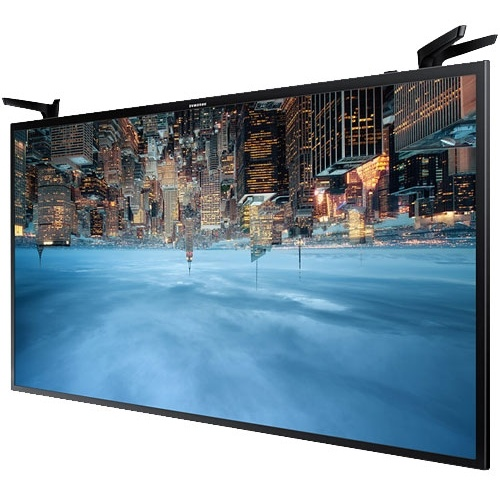SAMSUNG: (106, 46, 275, 165)
